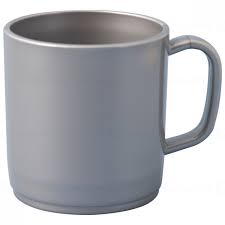mug: (2, 8, 224, 218)
